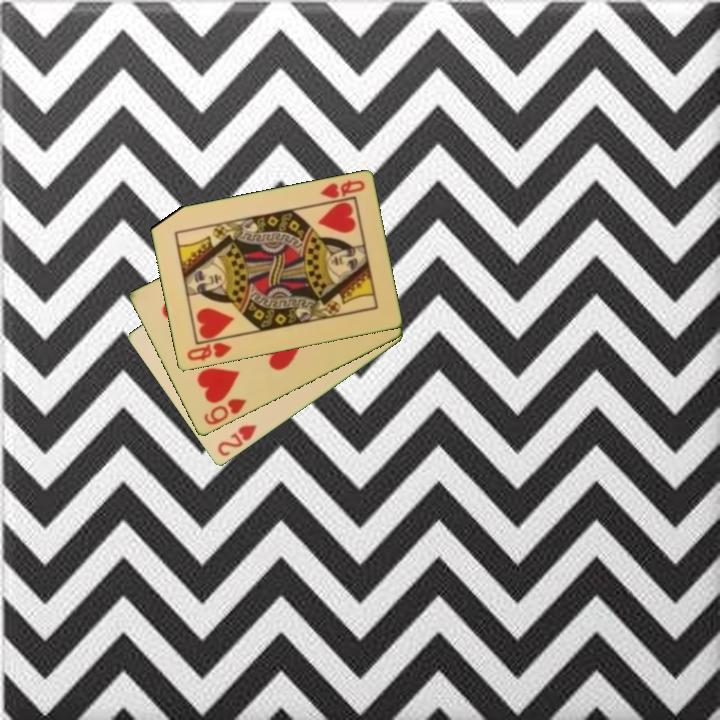2h: (214, 421, 260, 460)
6h: (200, 395, 249, 428)
Qh: (316, 177, 368, 202), (183, 339, 234, 364)
